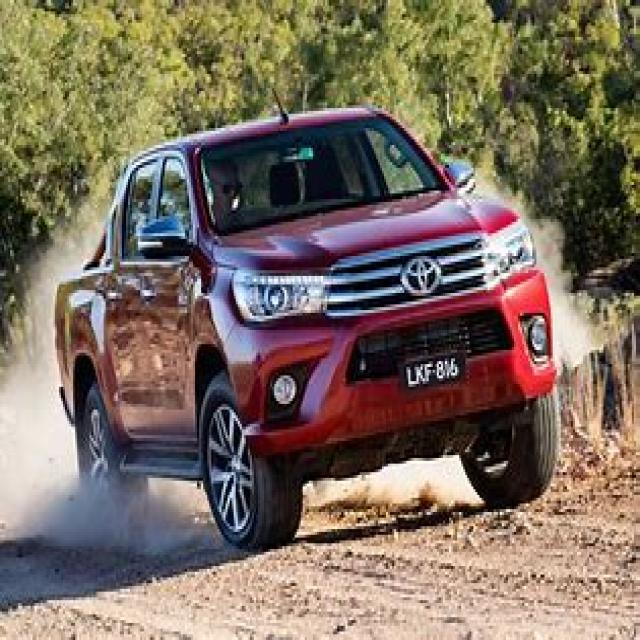light_vehicle: (47, 91, 583, 560)
